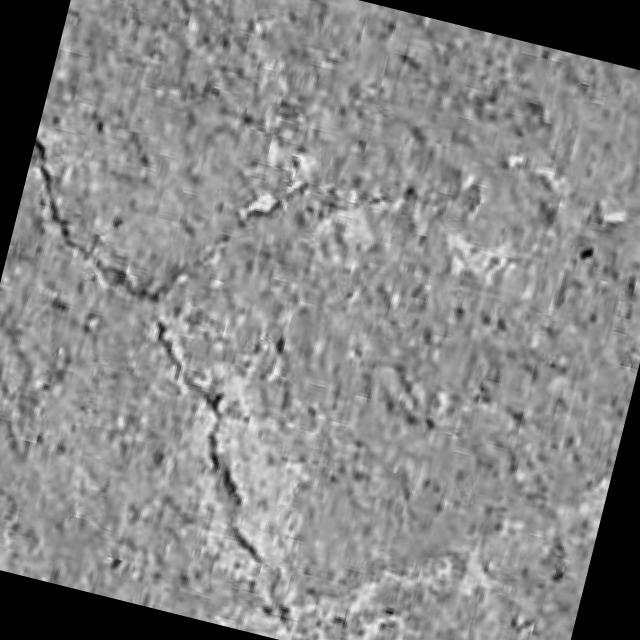crack: (155, 319, 264, 566), (31, 136, 187, 304)
